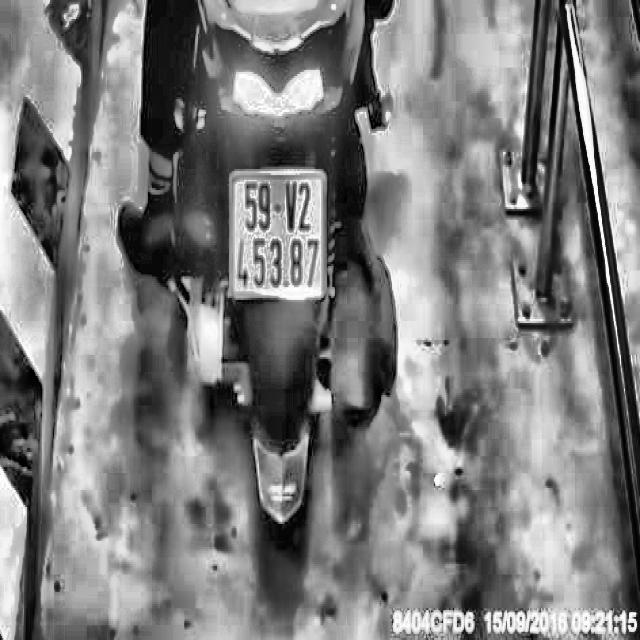plate: (223, 162, 331, 308)
